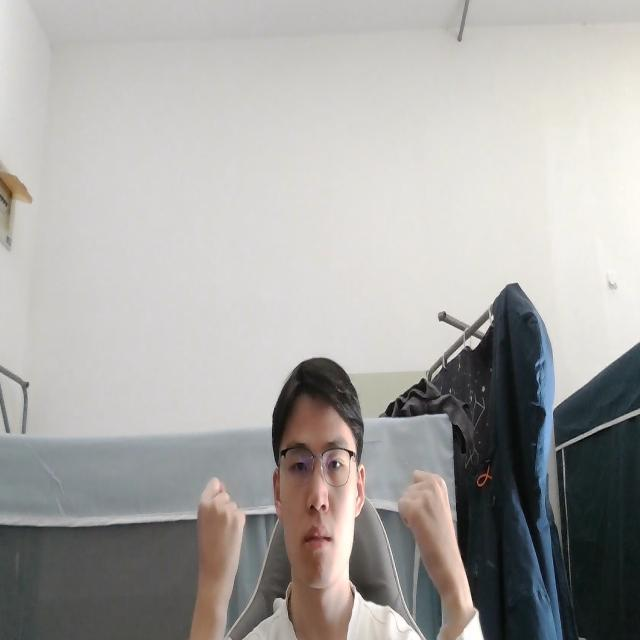ten: (392, 467, 464, 595), (193, 472, 249, 594)
